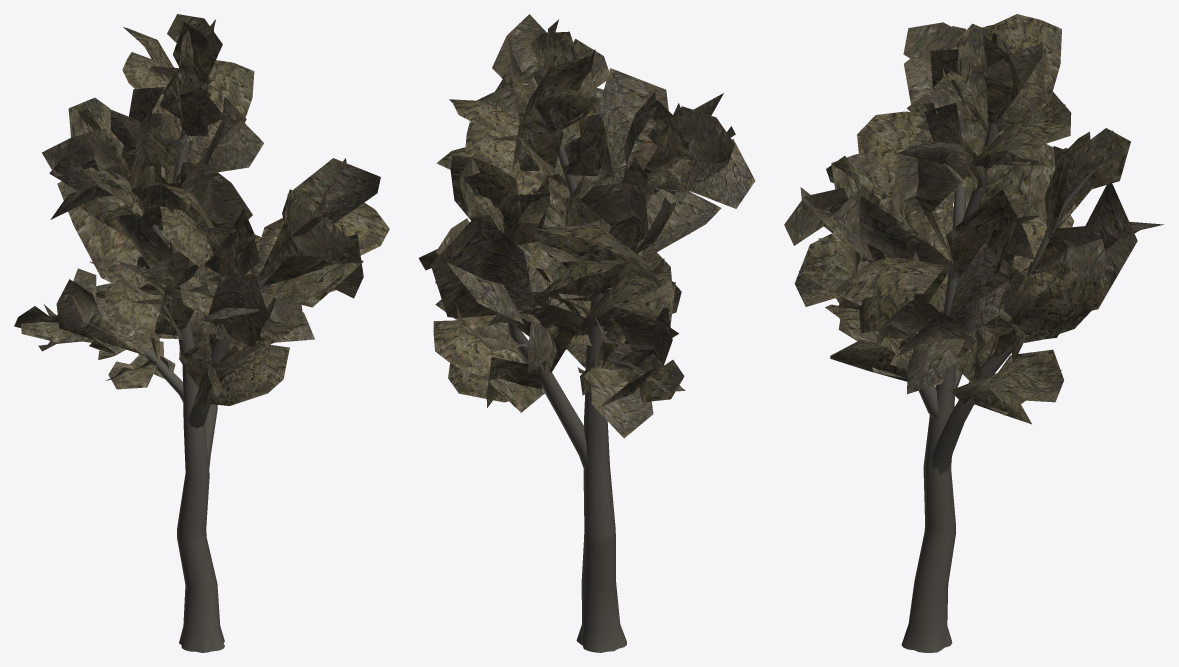
The model's file is arbol3.fbx.
3 views of the same model, side by side, from view 1: azimuth 30°, elevation 25°; view 2: azimuth 150°, elevation 25°; view 3: azimuth 270°, elevation 25° (orthographic). The views are drawn at different scales.
Visible parts, largest first — view 1: Foliage_Trees_03; view 2: Foliage_Trees_03; view 3: Foliage_Trees_03.
Part boxes in pixels (left/top/right/bottom): Foliage_Trees_03: left=14, top=14, right=389, bottom=652; Foliage_Trees_03: left=418, top=14, right=755, bottom=652; Foliage_Trees_03: left=784, top=14, right=1163, bottom=652.
Bounding box in the file's own units: 326 × 618 × 339.
